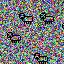sheep: (39, 12, 55, 25), (6, 32, 22, 44), (34, 53, 49, 64), (19, 13, 33, 24)
